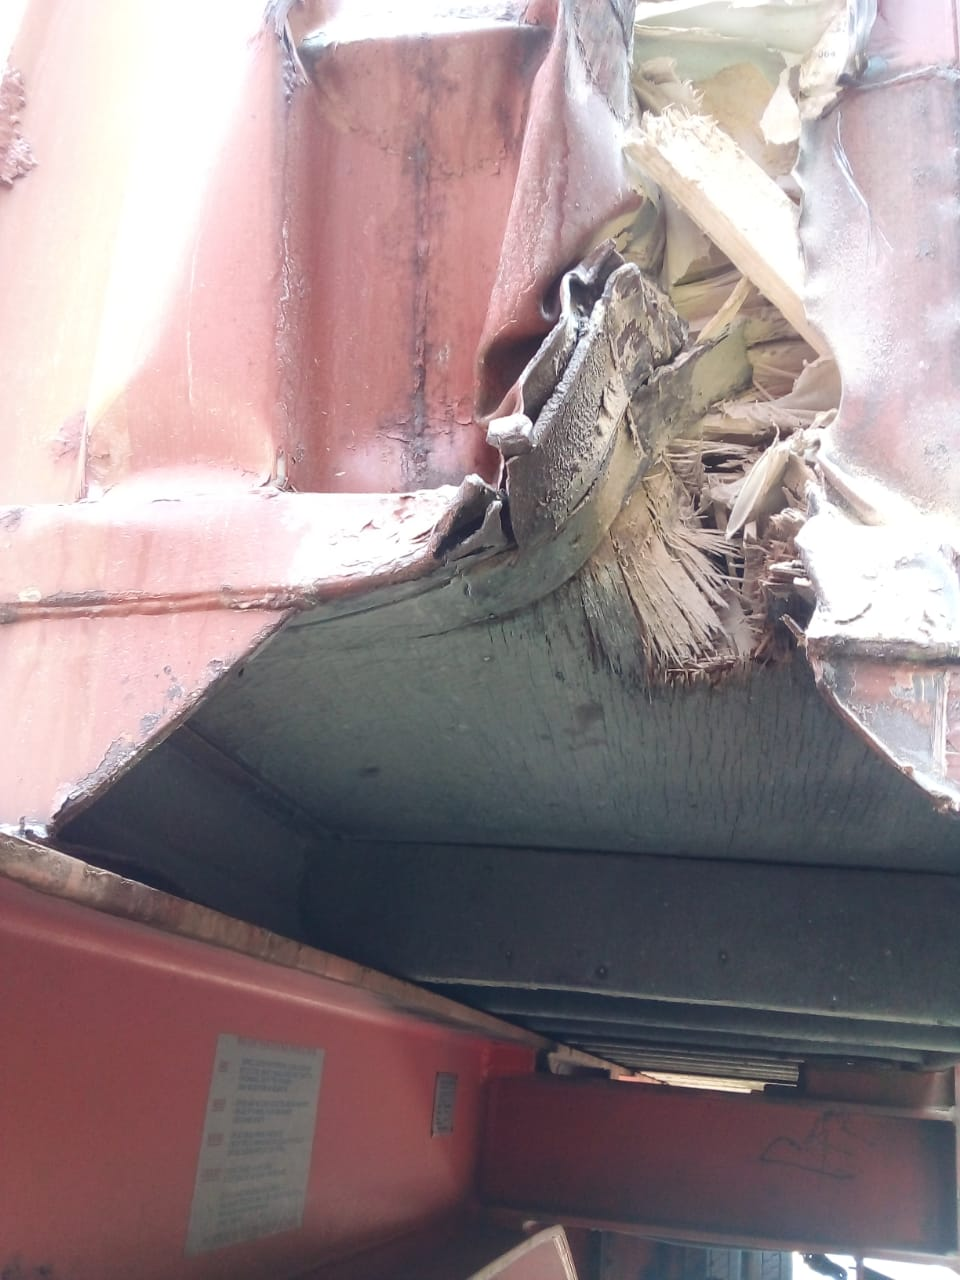cut: (362, 73, 881, 606)
